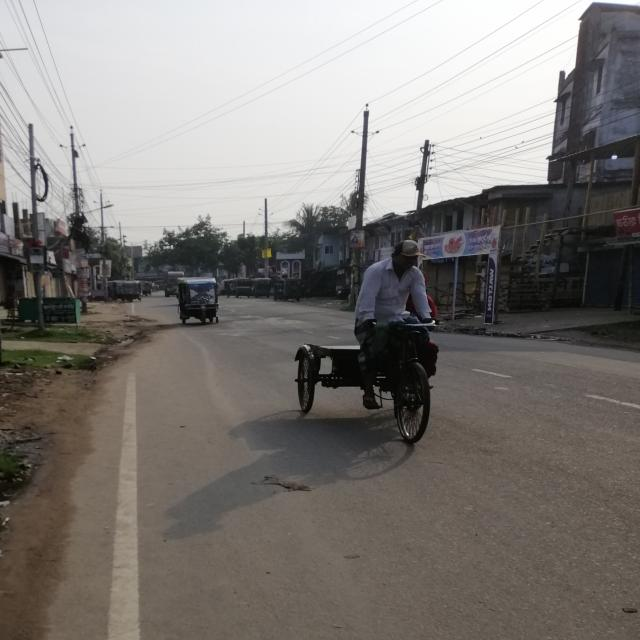Van: (286, 333, 453, 448)
